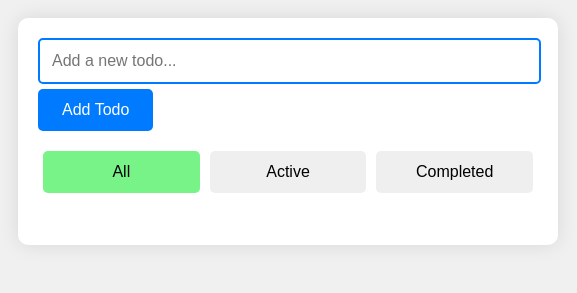
it: TodoList component › adds a new todo
Type "Test Todo" into the field with placeholder "Add a new todo...". click: (290, 61)
box: [38, 38, 541, 84]
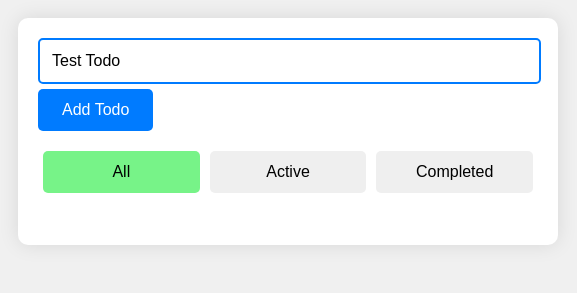
Click the button "Add Todo". click: (96, 110)
box: [38, 89, 153, 131]
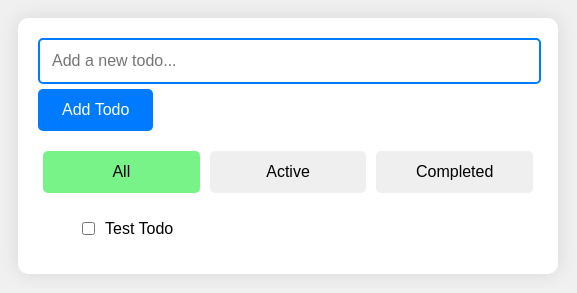
Expected: the text "Test Todo" is shown, [105, 220, 173, 238]
